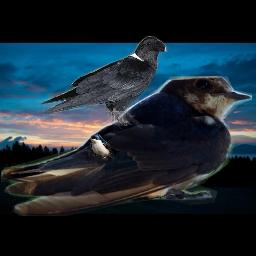Crow: (38, 36, 169, 129)
Swallow: (1, 76, 252, 216), (90, 134, 114, 159)
